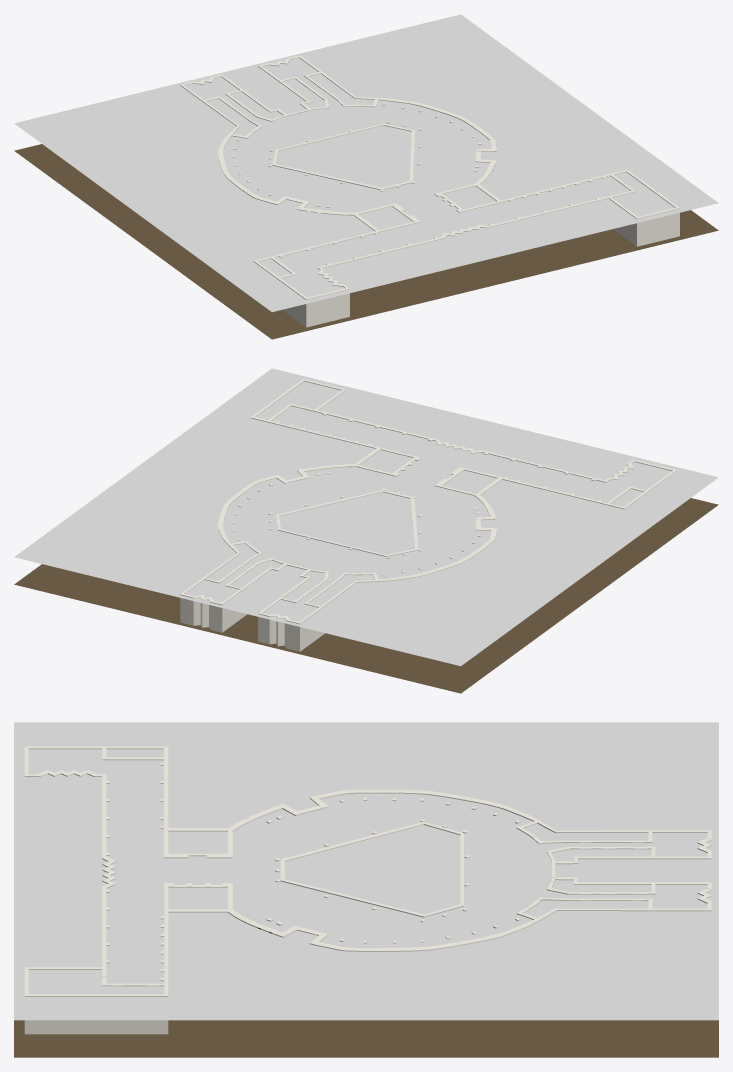
Rendered from Floor Plan4.fbx.
3 views of the same model, one above another, from view 1: azimuth 30°, elevation 25°; view 2: azimuth 150°, elevation 25°; view 3: azimuth 270°, elevation 25° (orthographic). The views are drawn at different scales.
Parts seen in each view (by area): view 1: Ceiling, Floor, Plane, Walls; view 2: Ceiling, Floor, Walls, Plane; view 3: Ceiling, Floor, Plane, Walls.
Boxes of the visible parts, x1,y1,x2,y2 form: Ceiling: [14, 14, 718, 312]; Floor: [14, 144, 718, 339]; Plane: [253, 123, 679, 327]; Walls: [180, 55, 496, 215]; Ceiling: [14, 368, 718, 666]; Floor: [14, 498, 718, 693]; Walls: [180, 464, 496, 651]; Plane: [250, 379, 676, 556]; Ceiling: [14, 722, 718, 1020]; Floor: [14, 1020, 718, 1057]; Plane: [24, 746, 463, 1034]; Walls: [228, 789, 711, 951].
Size of the model in its own units: 2886 by 174 by 2886.
